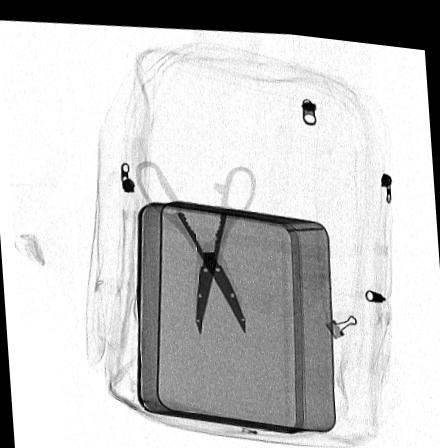Scissors: (129, 151, 259, 334)
